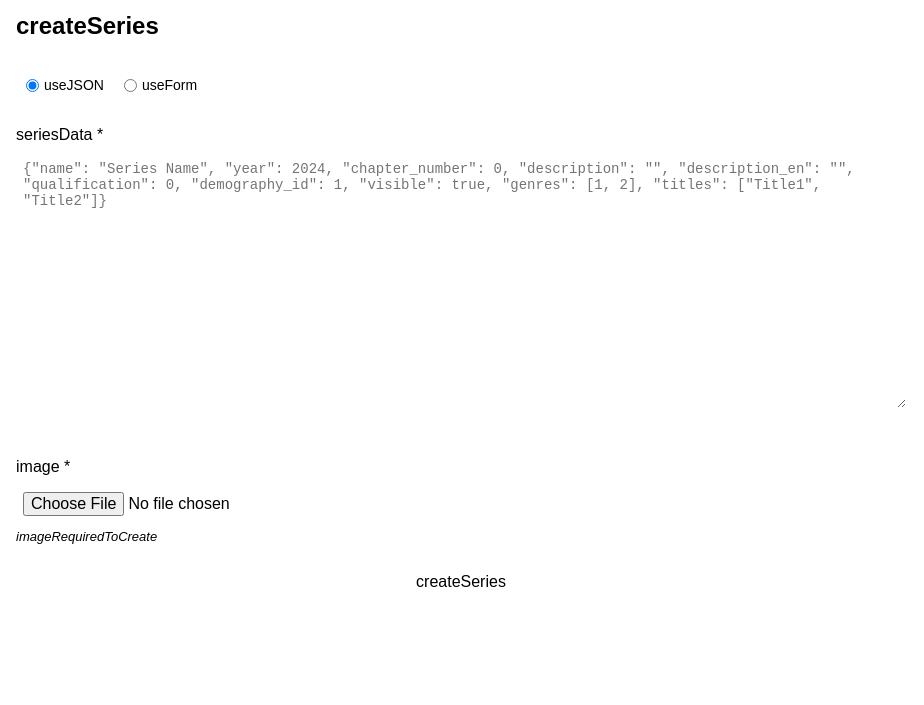
Test: AdminPanel › adds and removes alternative title inputs
The width and height of the screenshot is (924, 705).
Click the radio button labelled "useForm". click: click(130, 85)
box: [124,79,137,92]
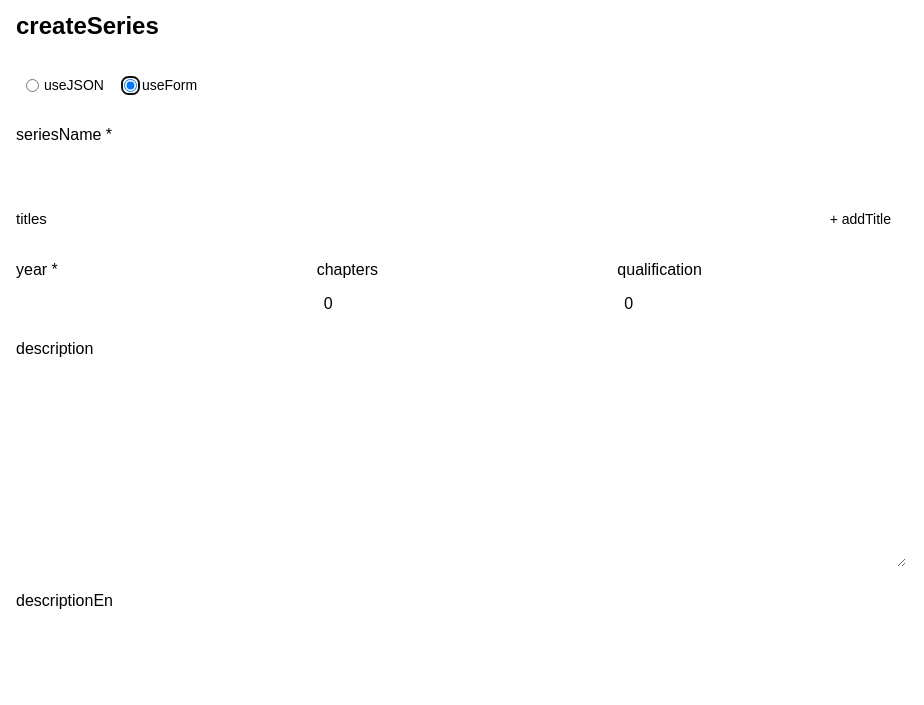
Click the button "+ addTitle". click: click(860, 219)
box: [815,204,906,234]
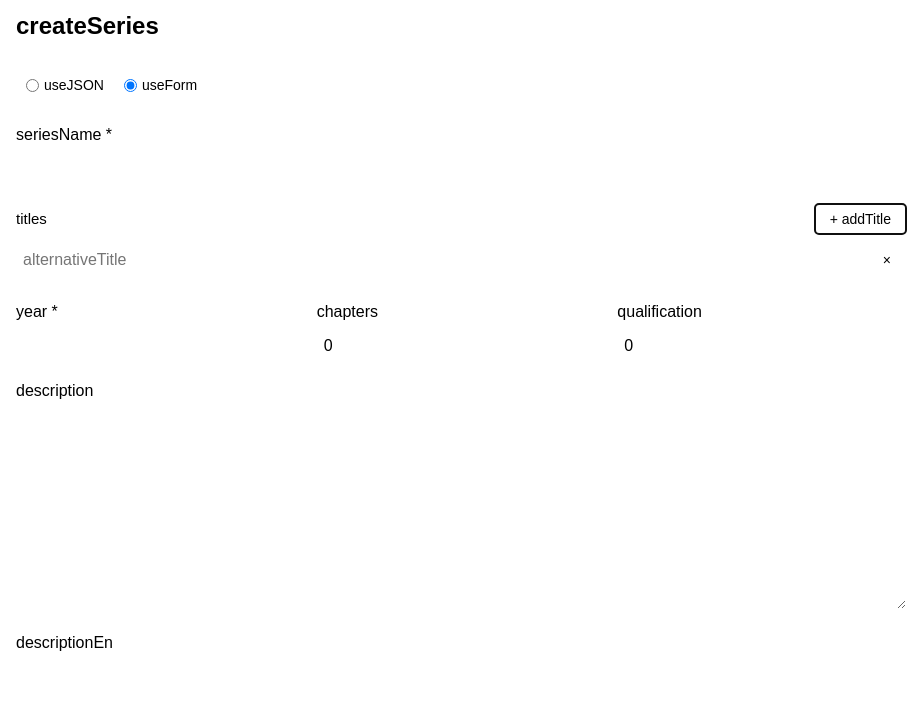
Check: the number of fields with placeholder "alternativeTitle" is 1, box [16,244,863,276]
Click the button "+ addTitle". click: click(860, 219)
box: [815,204,906,234]
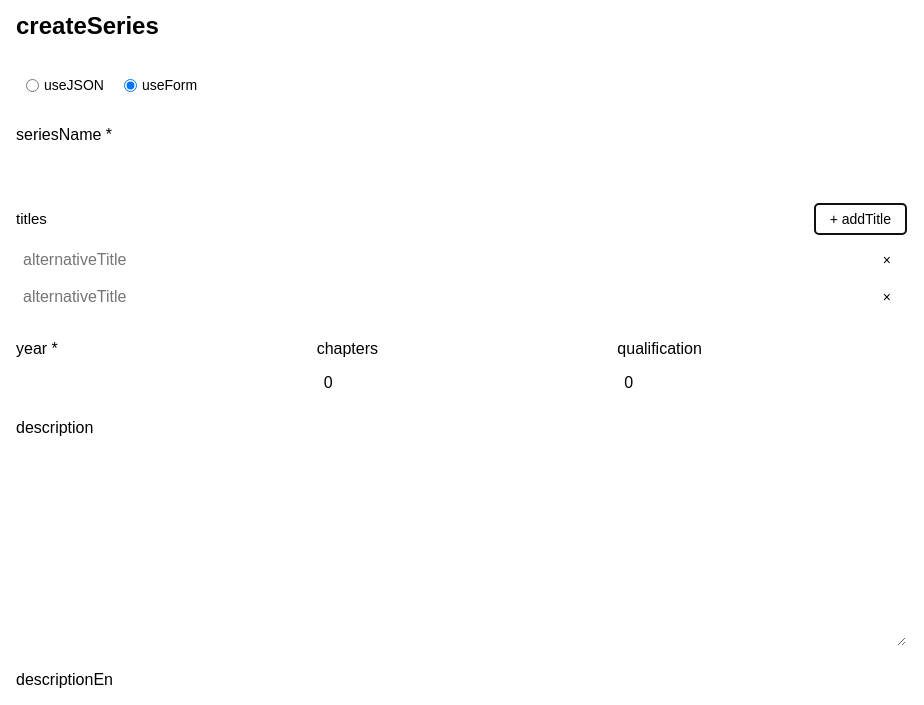
Check: the number of fields with placeholder "alternativeTitle" is 2, box [16,244,863,276]; [16,281,863,313]
Click the 1st button titled "remove". click: click(887, 260)
box: [868,244,906,276]
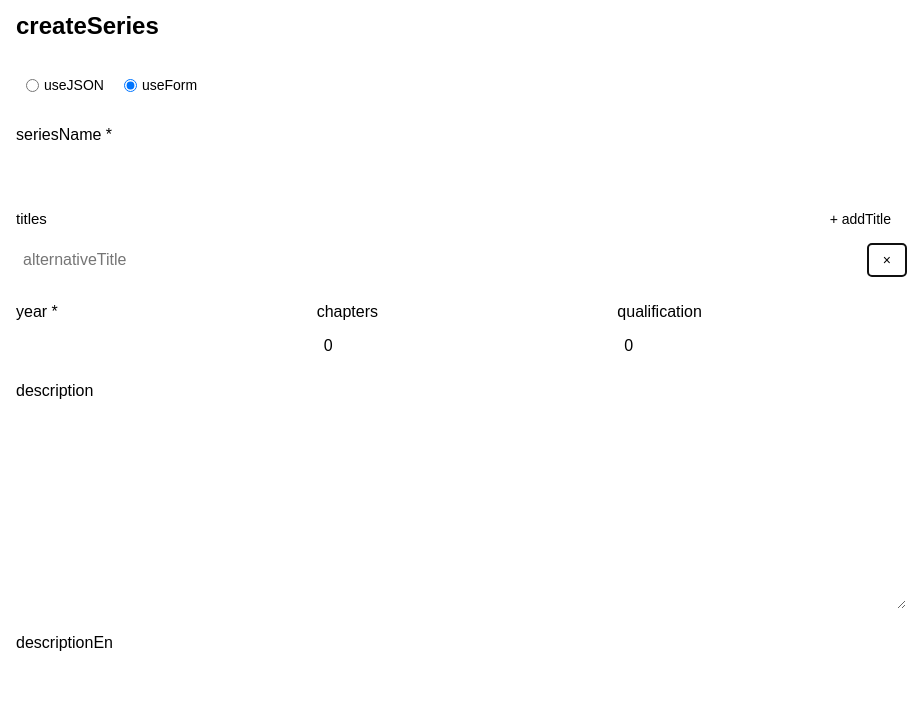
Check: the number of fields with placeholder "alternativeTitle" is 1, box [16,244,863,276]
